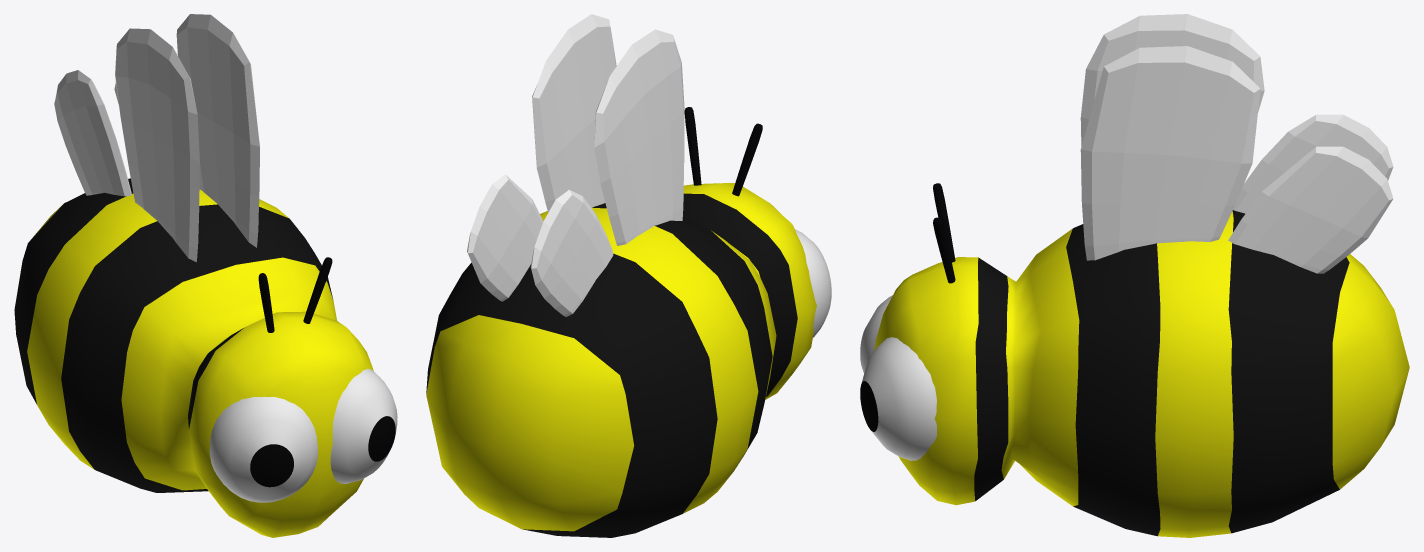
File: bee_withcolor.fbx
3 renders of one model, left to right at view 1: azimuth 30°, elevation 25°; view 2: azimuth 150°, elevation 25°; view 3: azimuth 270°, elevation 25°, orthographic. The views are drawn at different scales.
Parts seen in each view (by area): view 1: BeeBody, Wings; view 2: BeeBody, Wings; view 3: BeeBody, Wings.
Boxes of the visible parts, bbox=[...] form: BeeBody: bbox=[14, 178, 397, 537]; Wings: bbox=[54, 14, 259, 262]; BeeBody: bbox=[426, 107, 831, 537]; Wings: bbox=[467, 14, 684, 316]; BeeBody: bbox=[860, 183, 1409, 537]; Wings: bbox=[1080, 14, 1393, 273].
Size of the model in its own units: 31.03 by 49.86 by 50.59.
